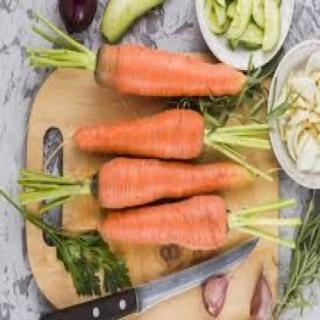Wortel: (94, 41, 252, 102), (94, 157, 257, 214), (99, 192, 244, 251), (70, 108, 214, 162)
